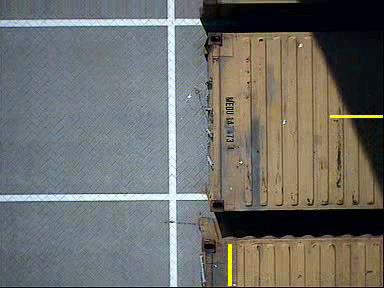groundmarker_2: (54, 129, 166, 202)
